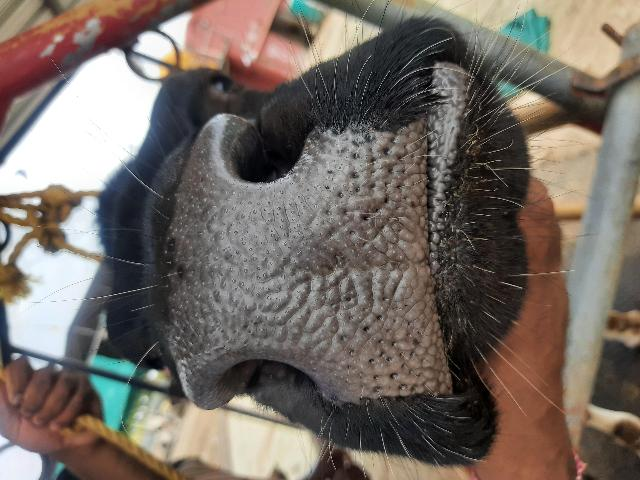Muzzle: (186, 181, 427, 350)
